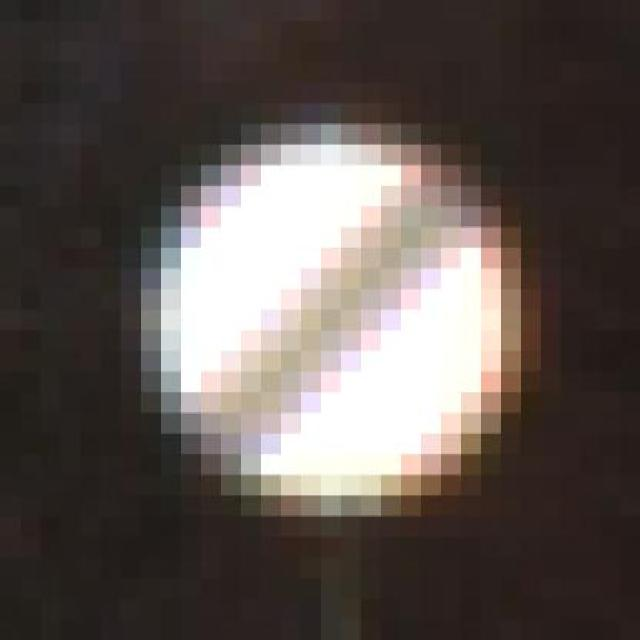End of all speed and passing limits: (140, 103, 520, 495)
